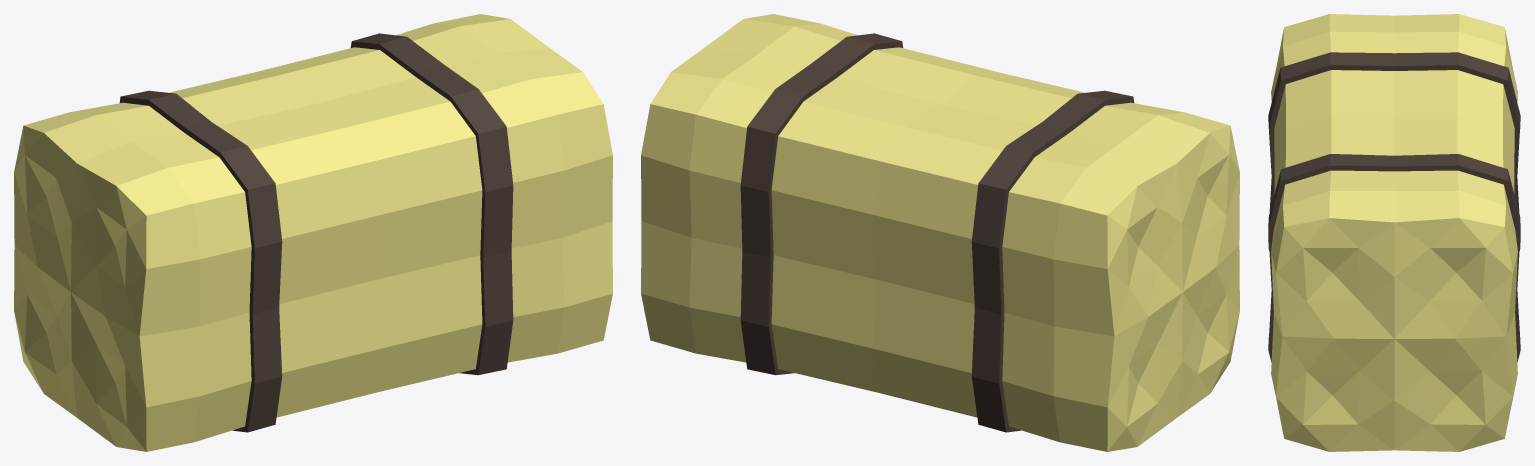
File: Hay.fbx
3 renders of one model, left to right at view 1: azimuth 30°, elevation 25°; view 2: azimuth 150°, elevation 25°; view 3: azimuth 270°, elevation 25°, orthographic. The views are drawn at different scales.
Visible parts, largest first — view 1: Hay; view 2: Hay; view 3: Hay.
Boxes of the visible parts, left/top/right/bottom form: Hay: left=14, top=14, right=612, bottom=451; Hay: left=641, top=14, right=1239, bottom=451; Hay: left=1268, top=14, right=1520, bottom=451.
Bounding box in the file's own units: 138 × 69.62 × 75.52.
